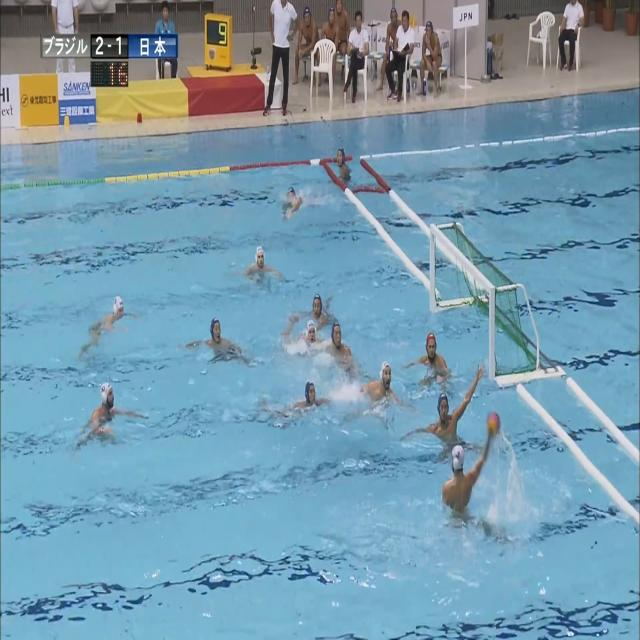ball: (487, 411, 500, 436)
